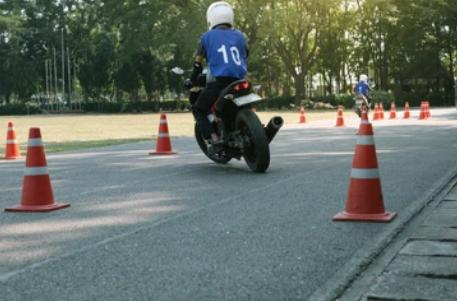rear: (215, 76, 263, 176)
